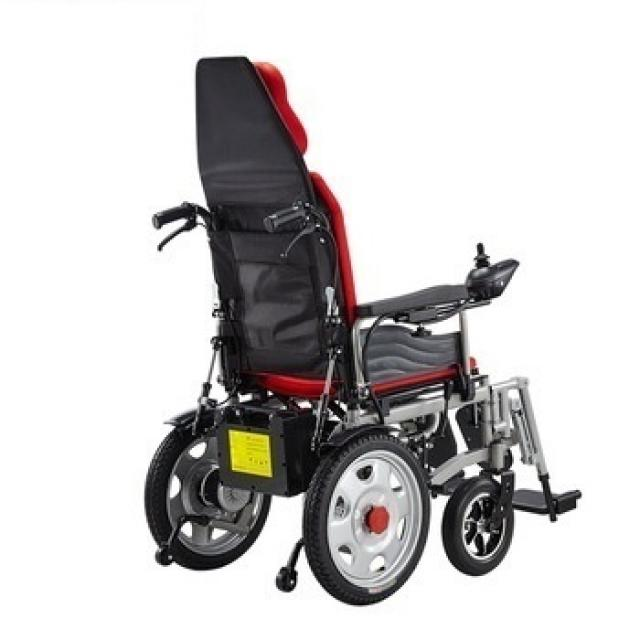wheelchair: (134, 24, 586, 613)
